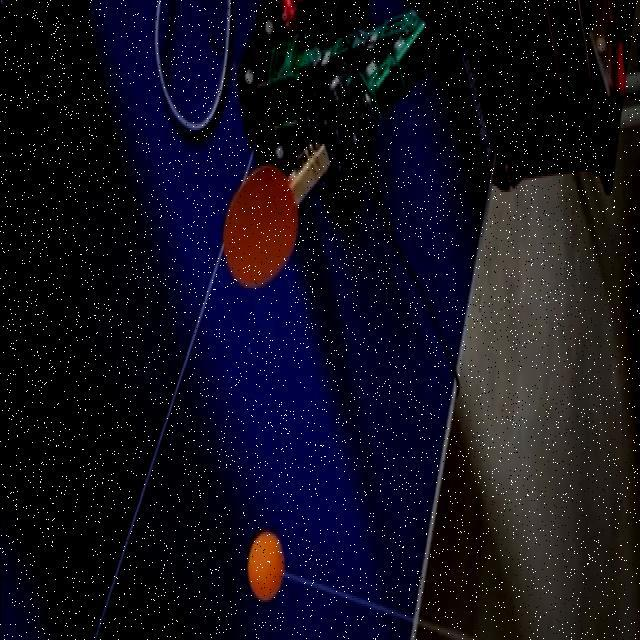ping-pong-ball: (248, 532, 286, 598)
